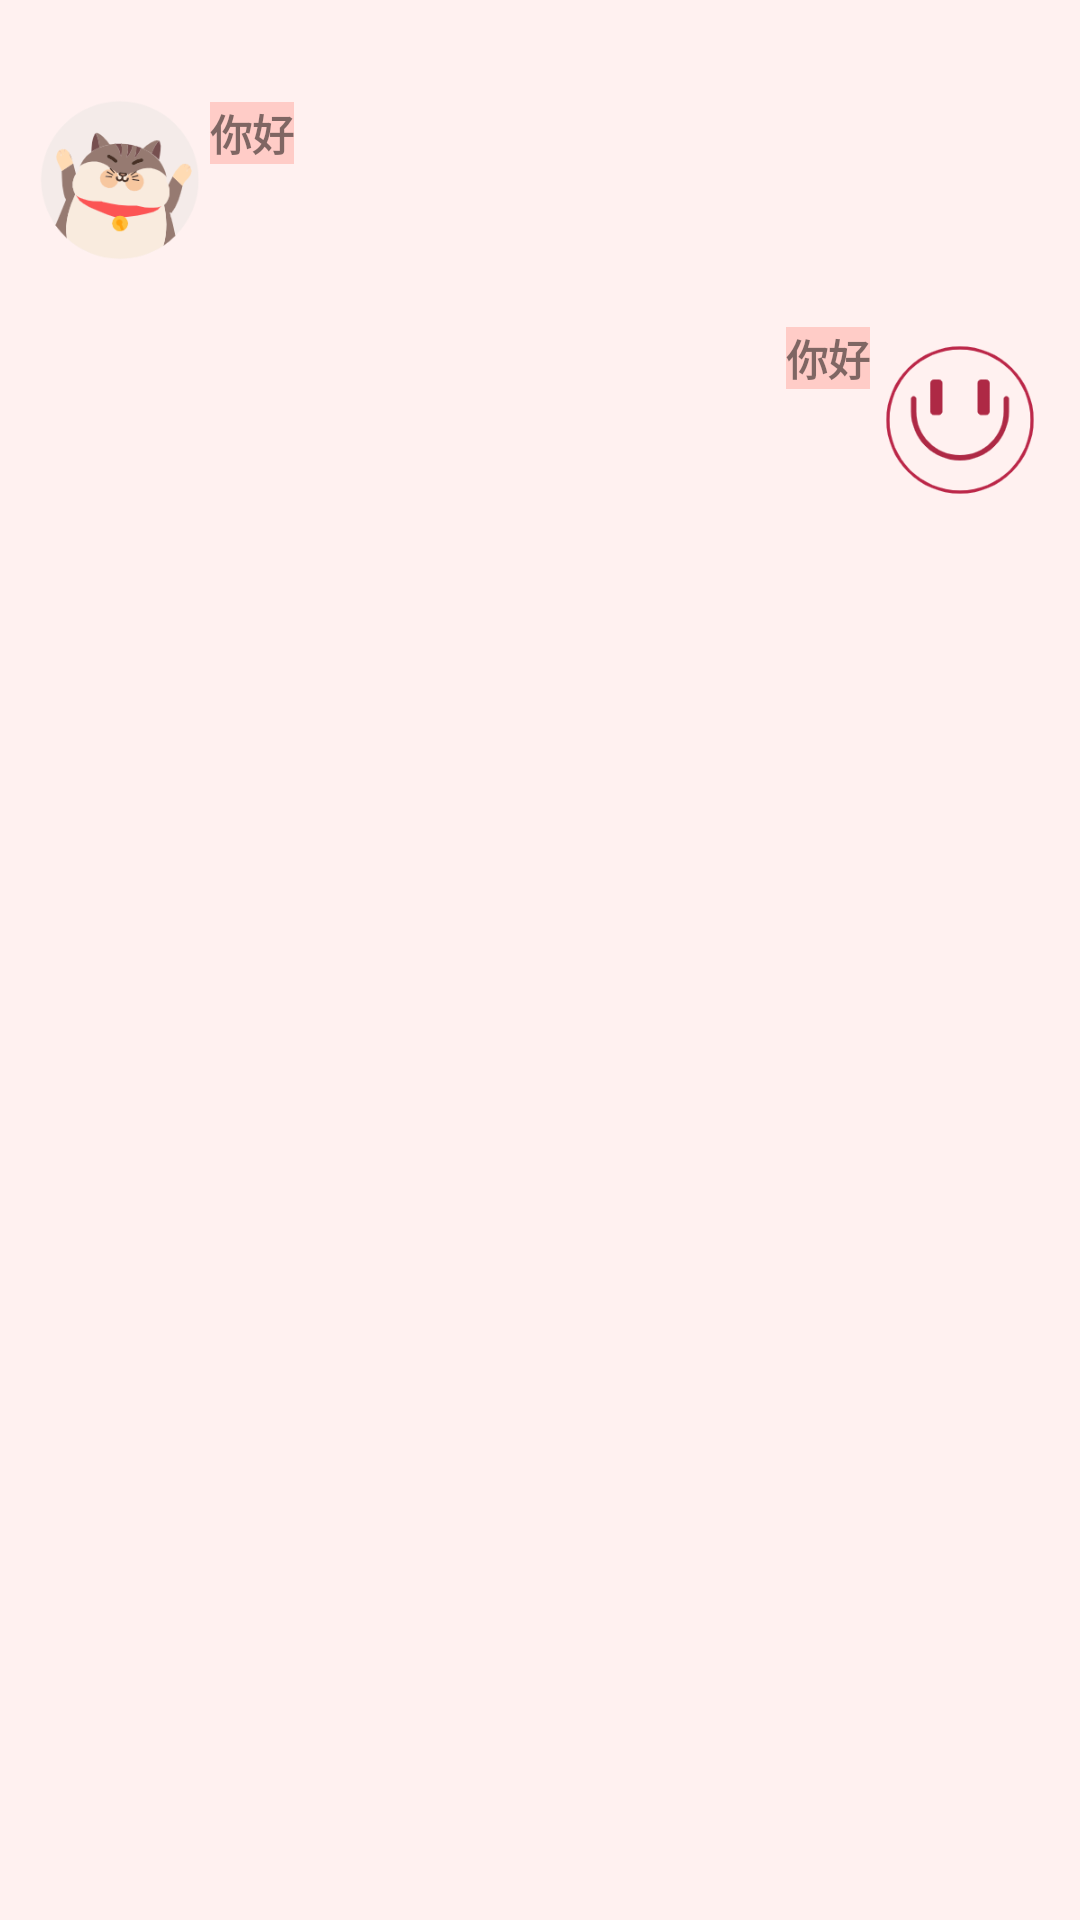

Where icons sit on this 1080x1920 app screen, as (x1, y1, x2, y2):
littlecat: (41, 102, 198, 259)
